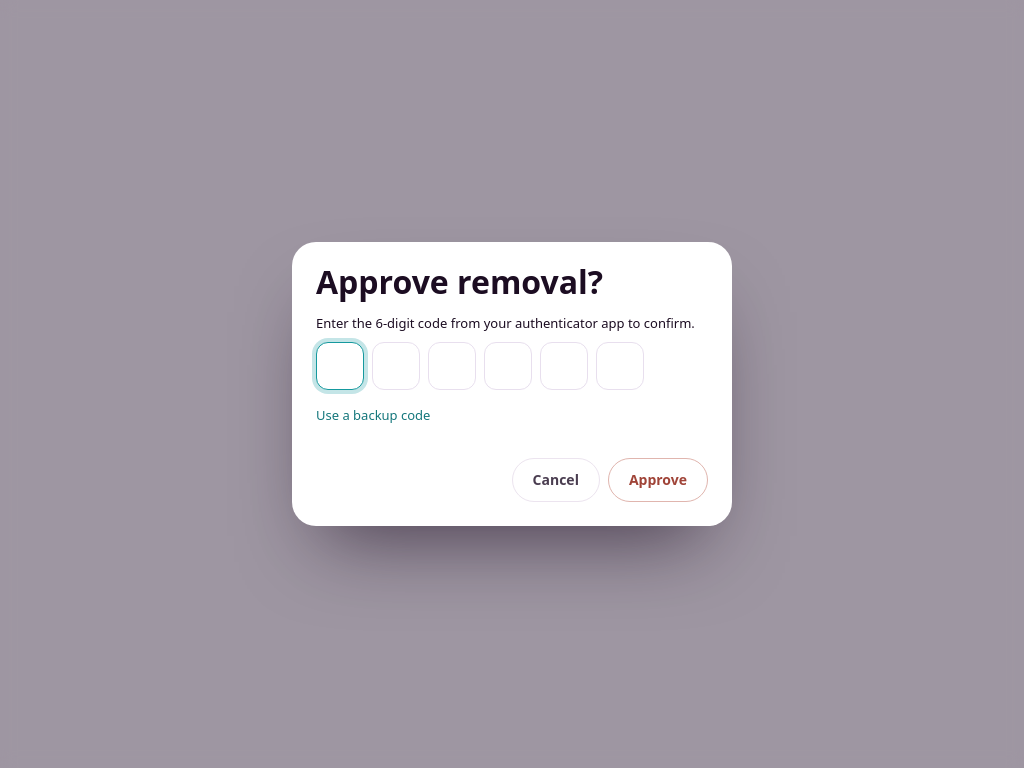
it: StepUpDialog › a backup code is sent as backup_code; a wrong one says each works once
Step 1. Click the button "Use a backup code" → (373, 416), box [316,394,430,438]
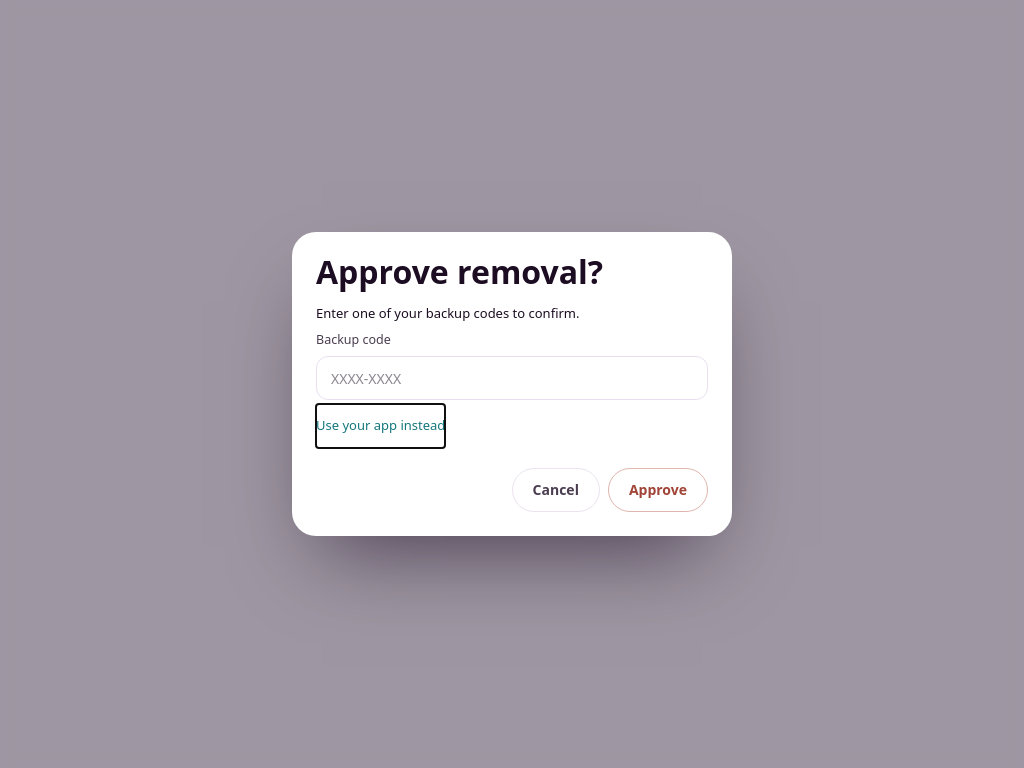
Step 2. Type "4f7k92qx" into the field labelled "Backup code" → (512, 378), box [316,356,708,400]
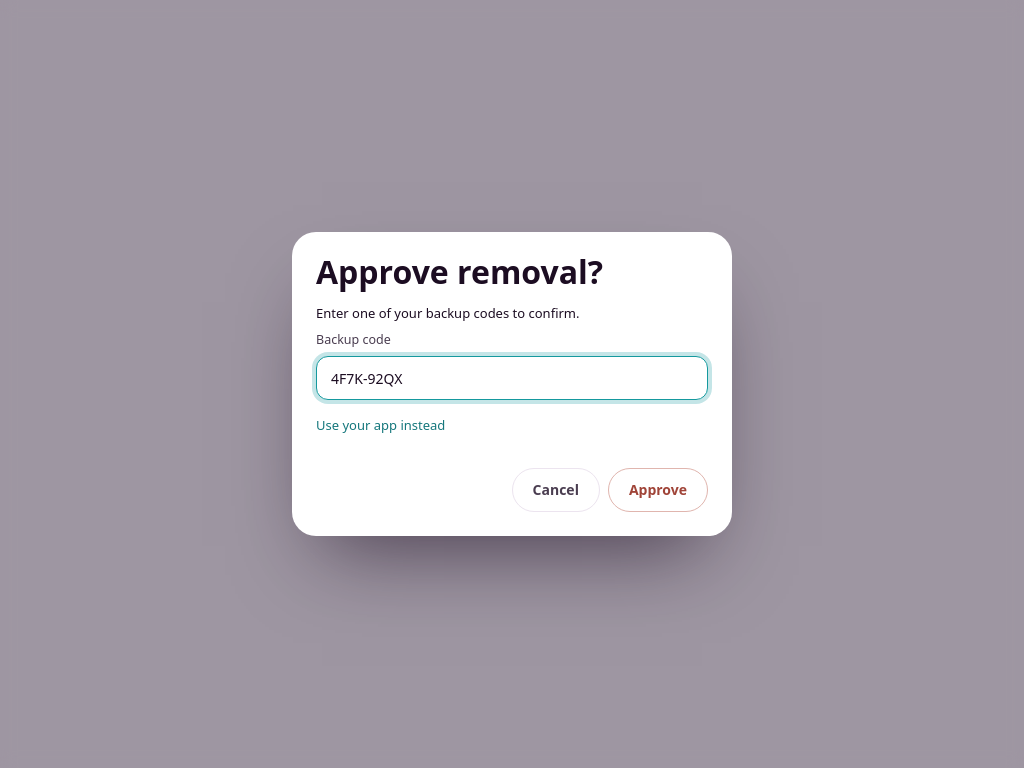
Step 3. Click the button "Approve" → (658, 490), box [608,468,708,512]
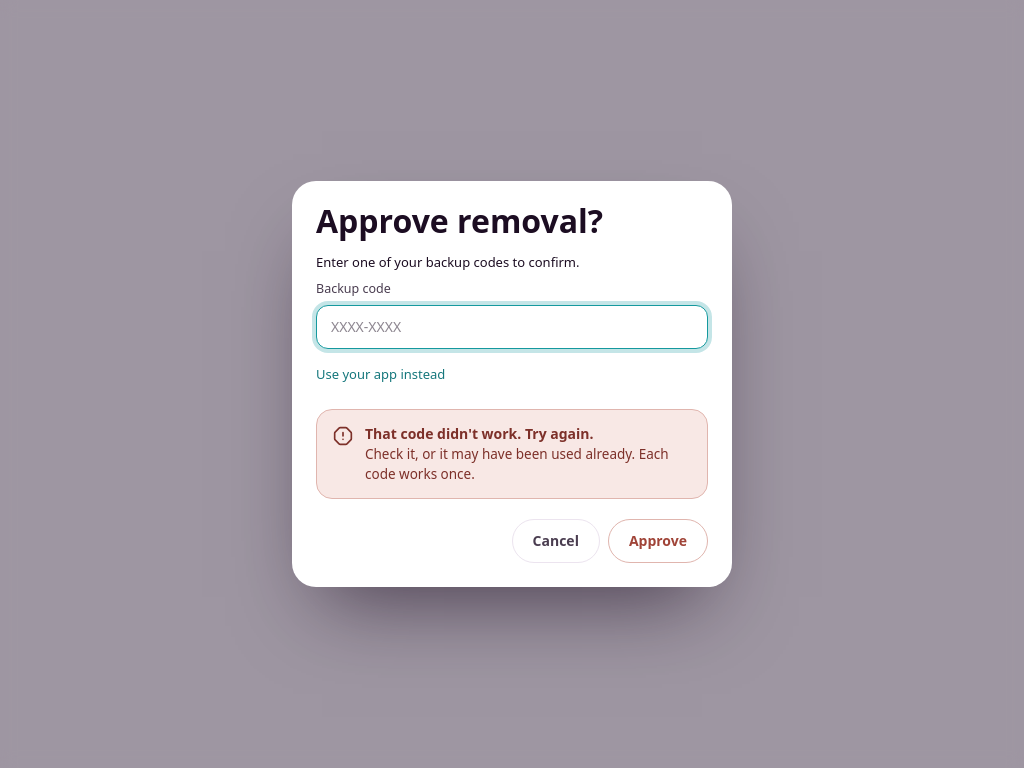
expect the text "it may have been used already" is shown: met, box [365,445,669,483]
